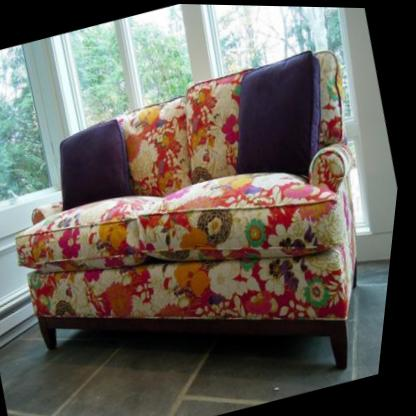Sofa: (0, 33, 413, 416)
